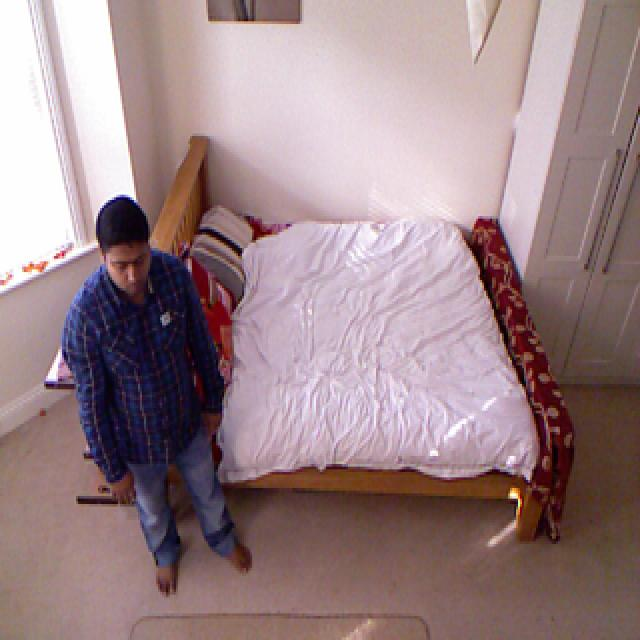standing: (60, 188, 261, 608)
